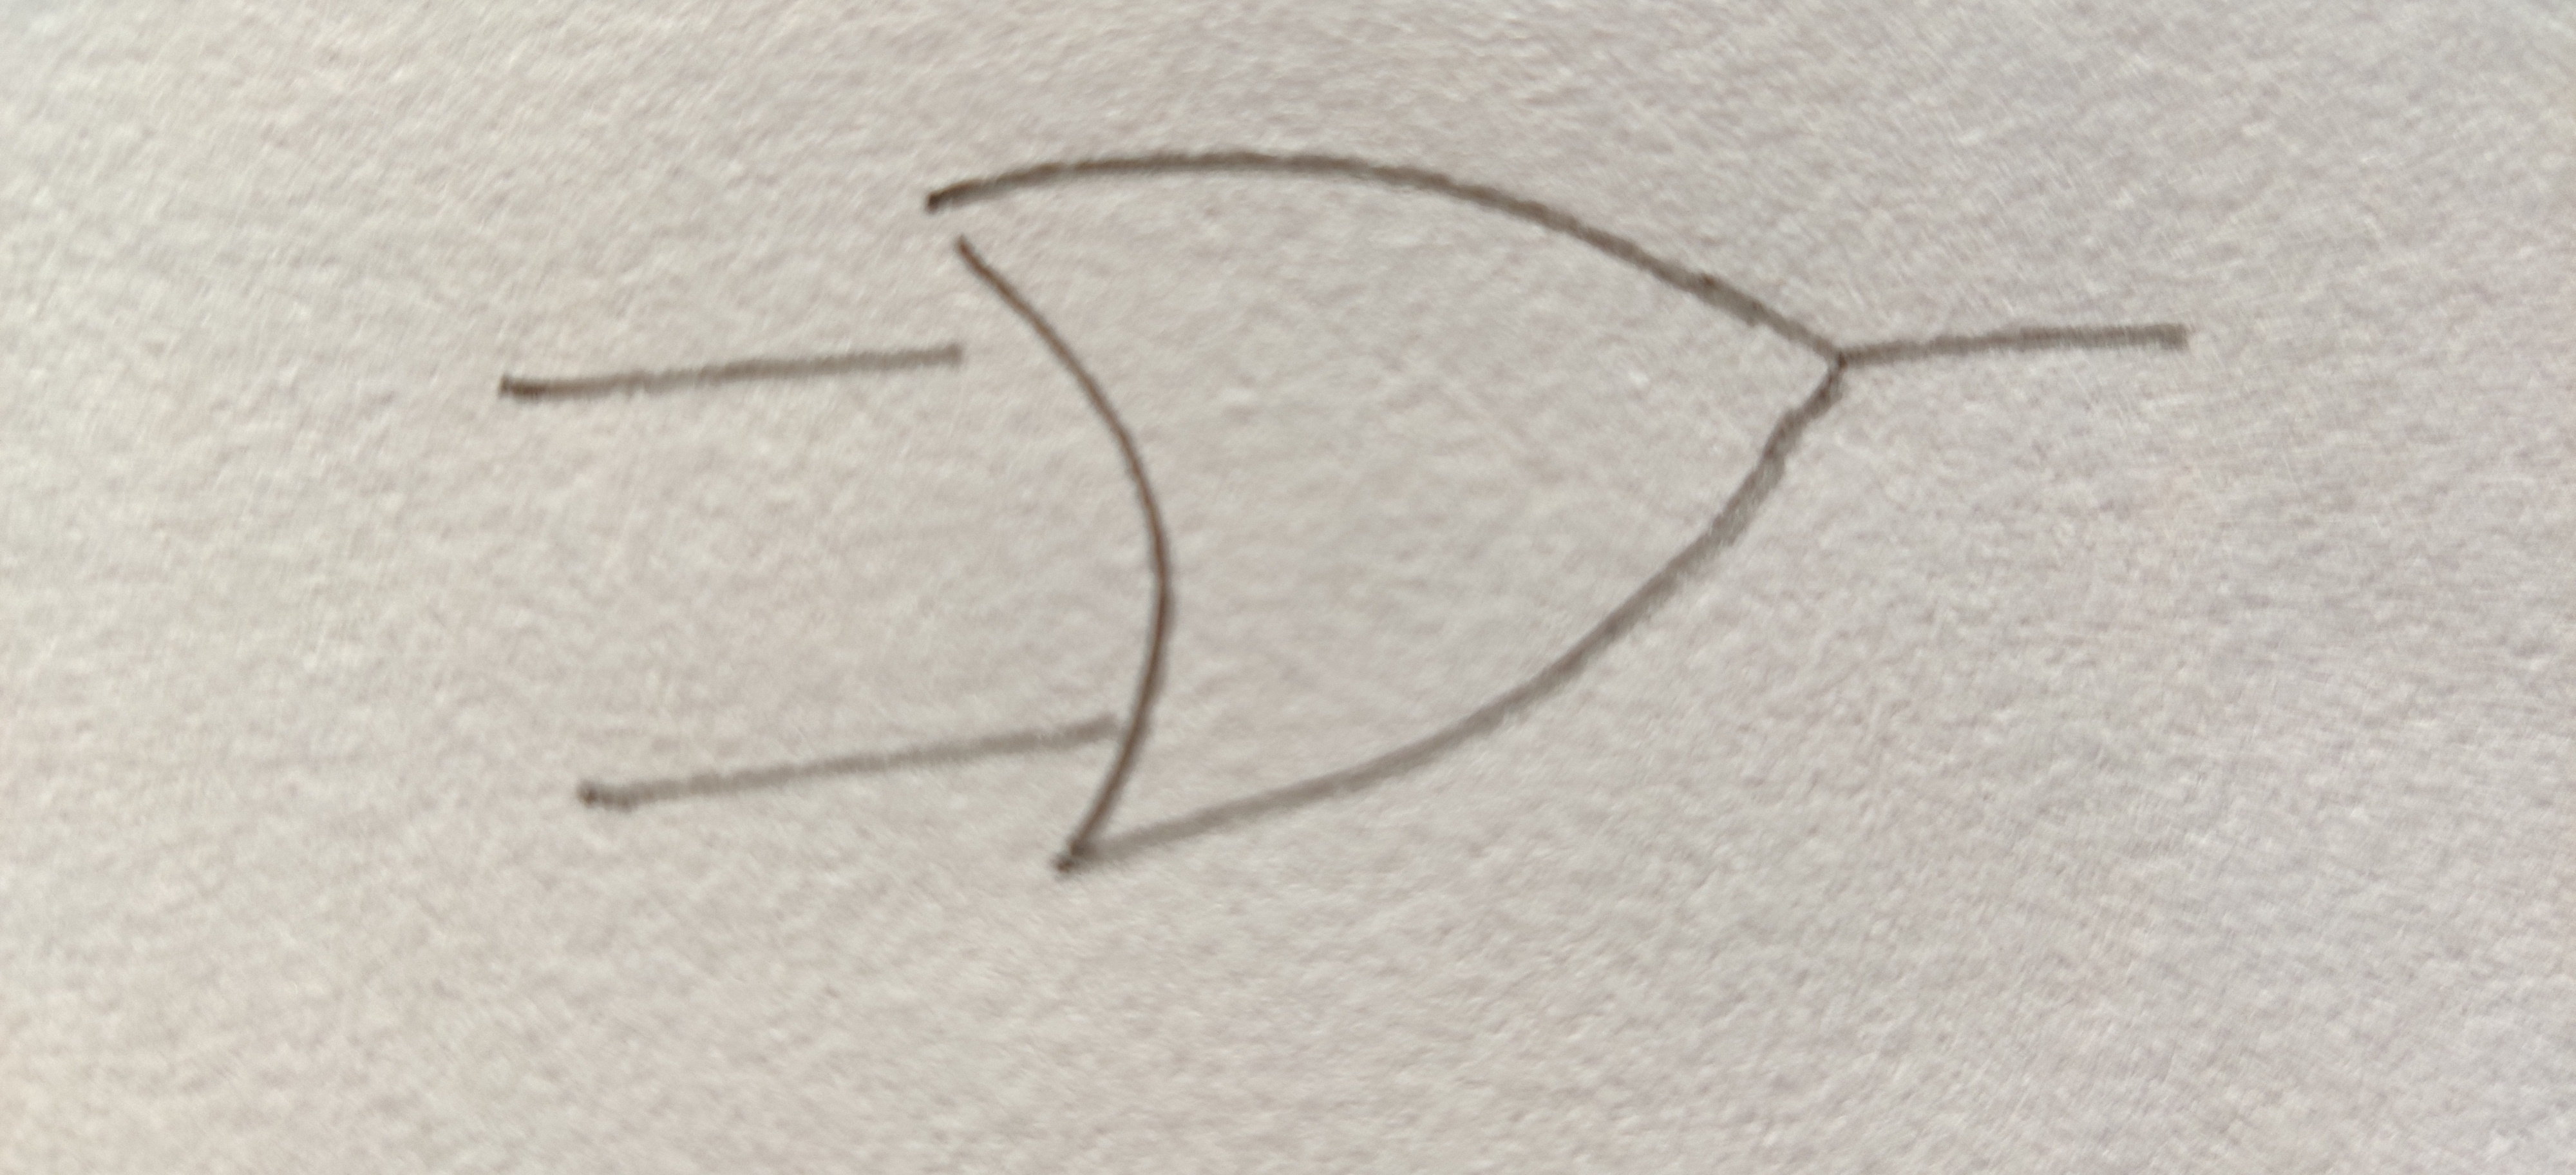or: (941, 151, 1853, 863)
